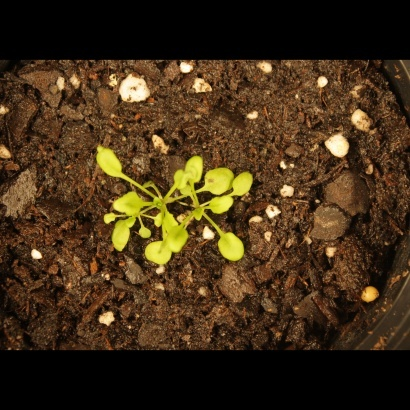leaf: (207, 221, 250, 269), (91, 138, 129, 182), (113, 190, 149, 218), (205, 166, 235, 198), (144, 240, 175, 270), (166, 219, 191, 255), (110, 221, 133, 258), (231, 165, 256, 198), (205, 193, 238, 216), (161, 209, 184, 239), (181, 155, 204, 183), (93, 212, 116, 235), (131, 223, 154, 246), (146, 211, 169, 234), (137, 173, 160, 196), (170, 167, 193, 190), (189, 203, 212, 226)
